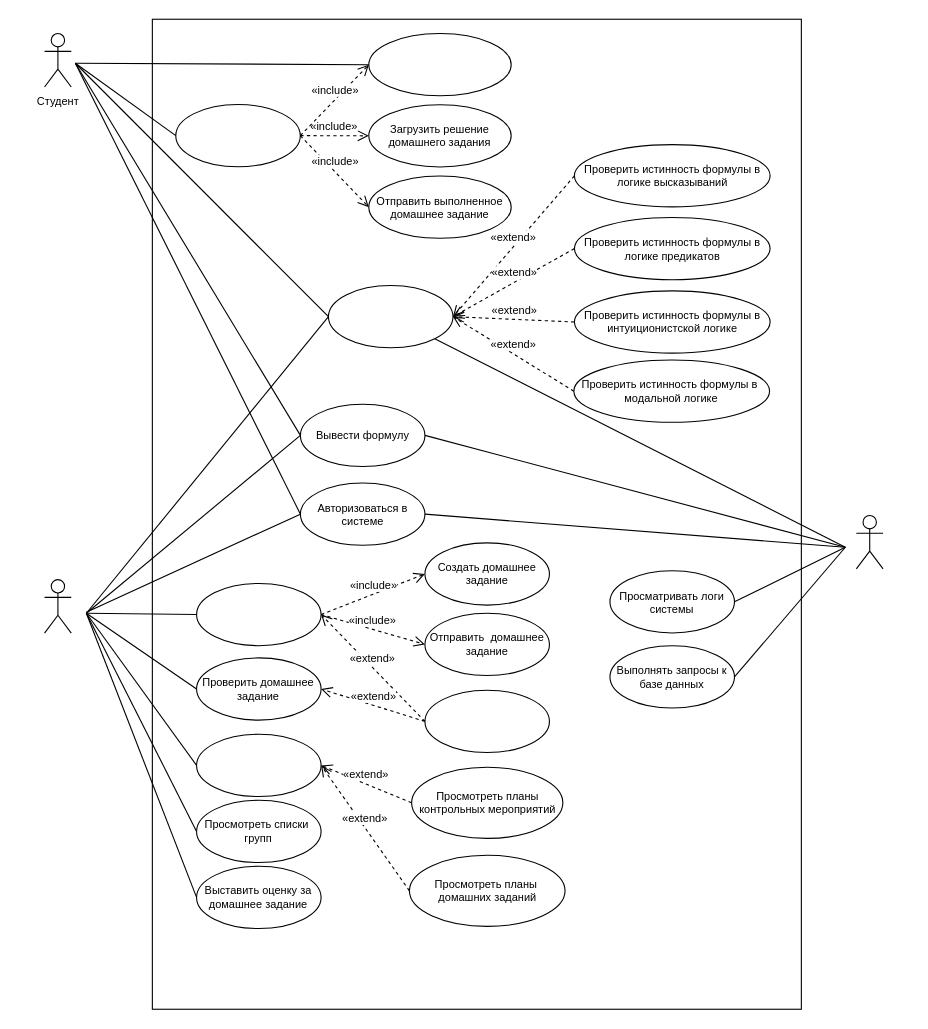
The diagram is 928 pixels wide and 1029 high, and some of its shapes have lost their labels. The shapes that lost their labels are listed below. From the top down, each one's box as (x1, y1, x2, y2) in pixels, then its label:
(368, 32, 511, 96): Просмотреть выданные домашние задания
(175, 103, 300, 167): Выполнить выданное домашнее задание
(327, 284, 453, 348): Проверить истинность формулы
(855, 514, 883, 569): Администратор
(43, 578, 71, 633): Преподаватель
(195, 582, 321, 646): Выдать домашнее задание
(424, 689, 549, 753): Комментировать домашнее задание
(195, 733, 321, 797): Просмотреть планы
